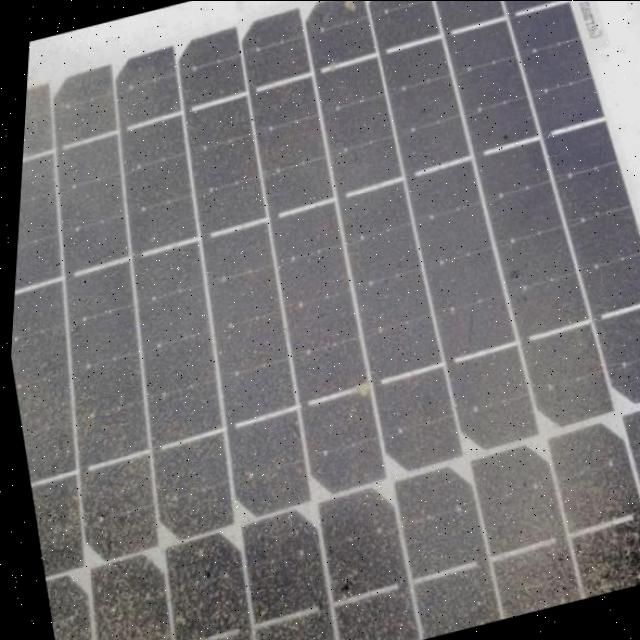Surface Contaminant: (7, 0, 640, 640)
